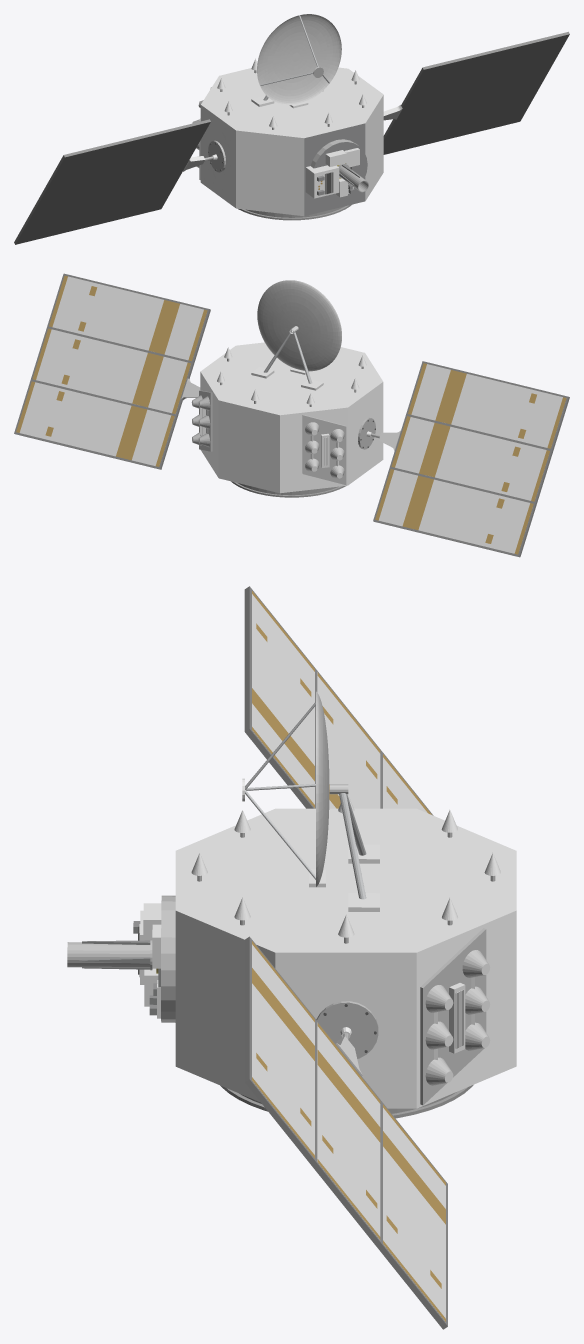
Rendered from dscovr.glb.
3 renders of one model, top to bottom at view 1: azimuth 30°, elevation 25°; view 2: azimuth 150°, elevation 25°; view 3: azimuth 270°, elevation 25°, orthographic. The views are drawn at different scales.
Visible parts, largest first — view 1: Layer_0; view 2: Layer_0; view 3: Layer_0.
Part boxes in pixels (x1,y1,x2,y2): Layer_0: (14,14,569,244); Layer_0: (14,273,569,557); Layer_0: (67,586,516,1329).
Bounding box in the file's own units: 266 × 96.4 × 103.
